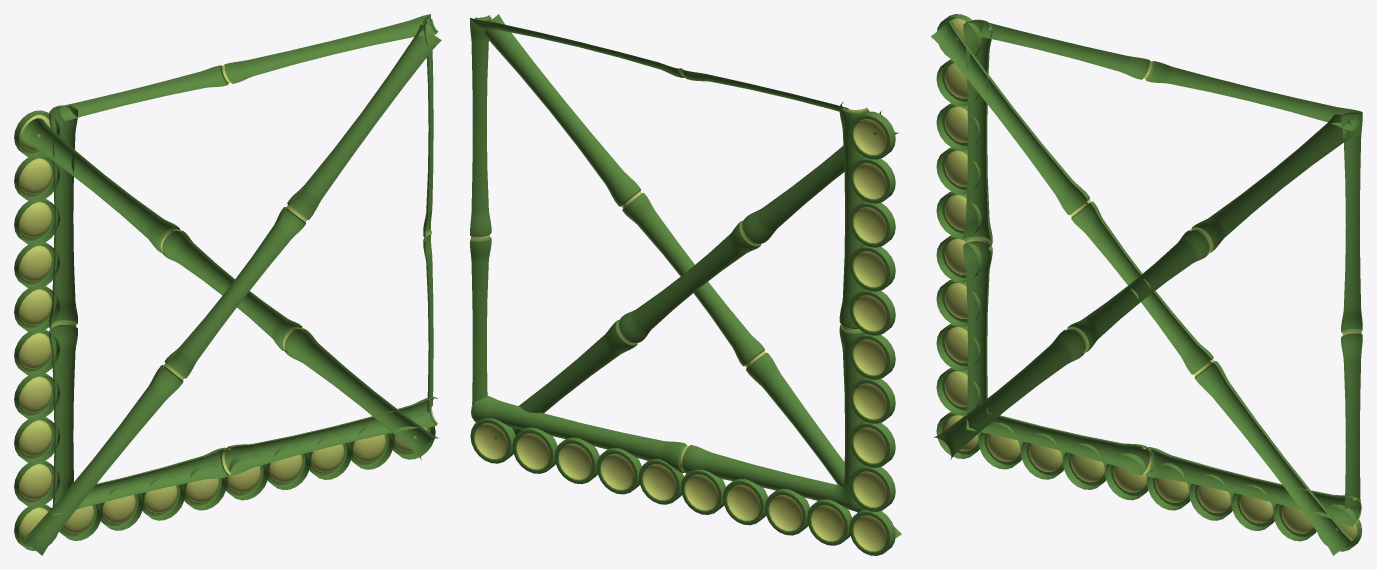
Rendered from Bamboo_structure_Perpendicular_Face.fbx.
3 renders of one model, left to right at view 1: azimuth 30°, elevation 25°; view 2: azimuth 150°, elevation 25°; view 3: azimuth 330°, elevation 25°, orthographic.
Visible parts, largest first — view 1: Bamboo_Structure_Perpendicular_Faces; view 2: Bamboo_Structure_Perpendicular_Faces; view 3: Bamboo_Structure_Perpendicular_Faces.
Boxes of the visible parts, x1,y1,x2,y2 form: Bamboo_Structure_Perpendicular_Faces: (14, 14, 441, 555); Bamboo_Structure_Perpendicular_Faces: (470, 14, 901, 555); Bamboo_Structure_Perpendicular_Faces: (931, 14, 1362, 555).
Bounding box in the file's own units: 100 × 100 × 6.14.
